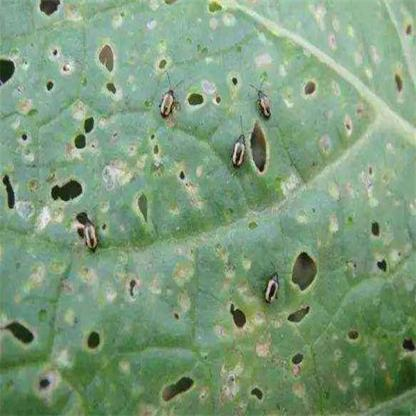beetle: (160, 70, 182, 118), (254, 83, 274, 125), (230, 128, 247, 174), (264, 260, 279, 307), (83, 217, 102, 252)
